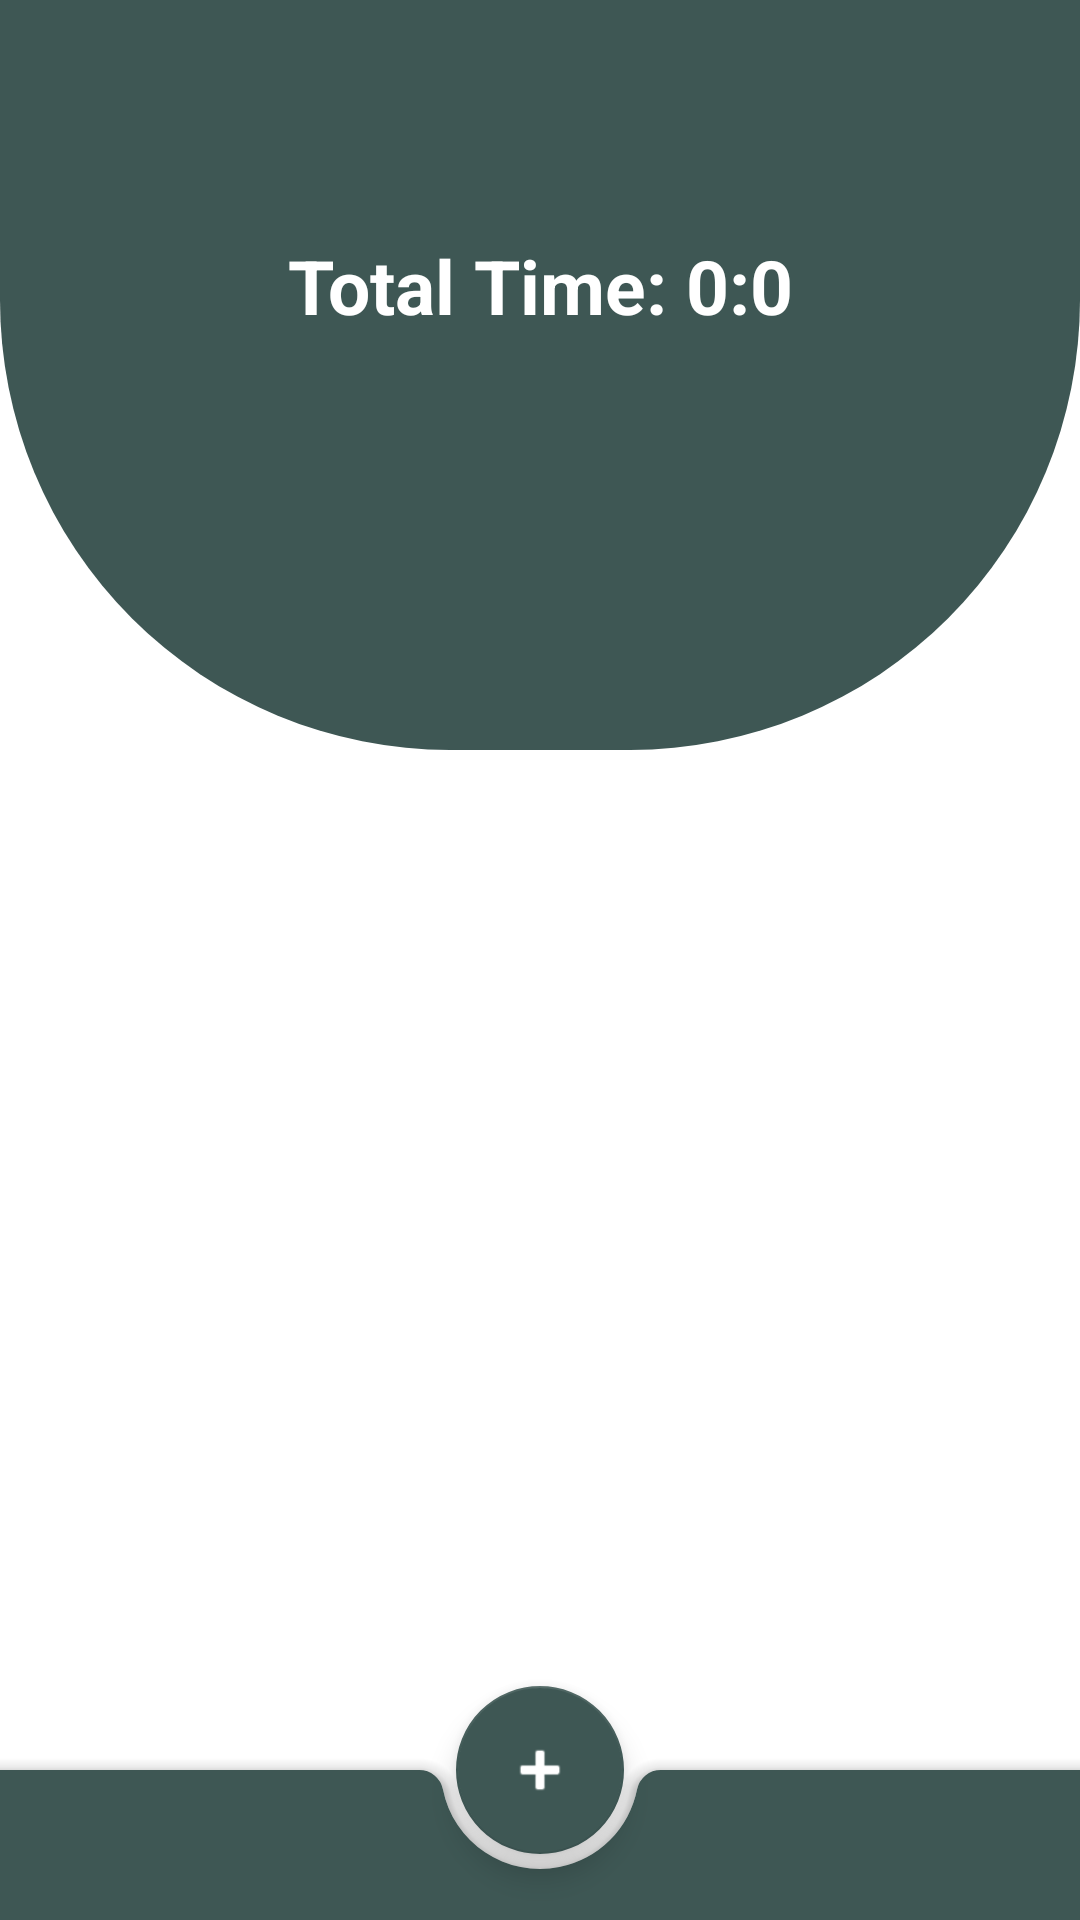

Point at icon controls on the screen. Image size 1080 × 1920, points as (x=x, y=y).
add: (x=540, y=1770)
